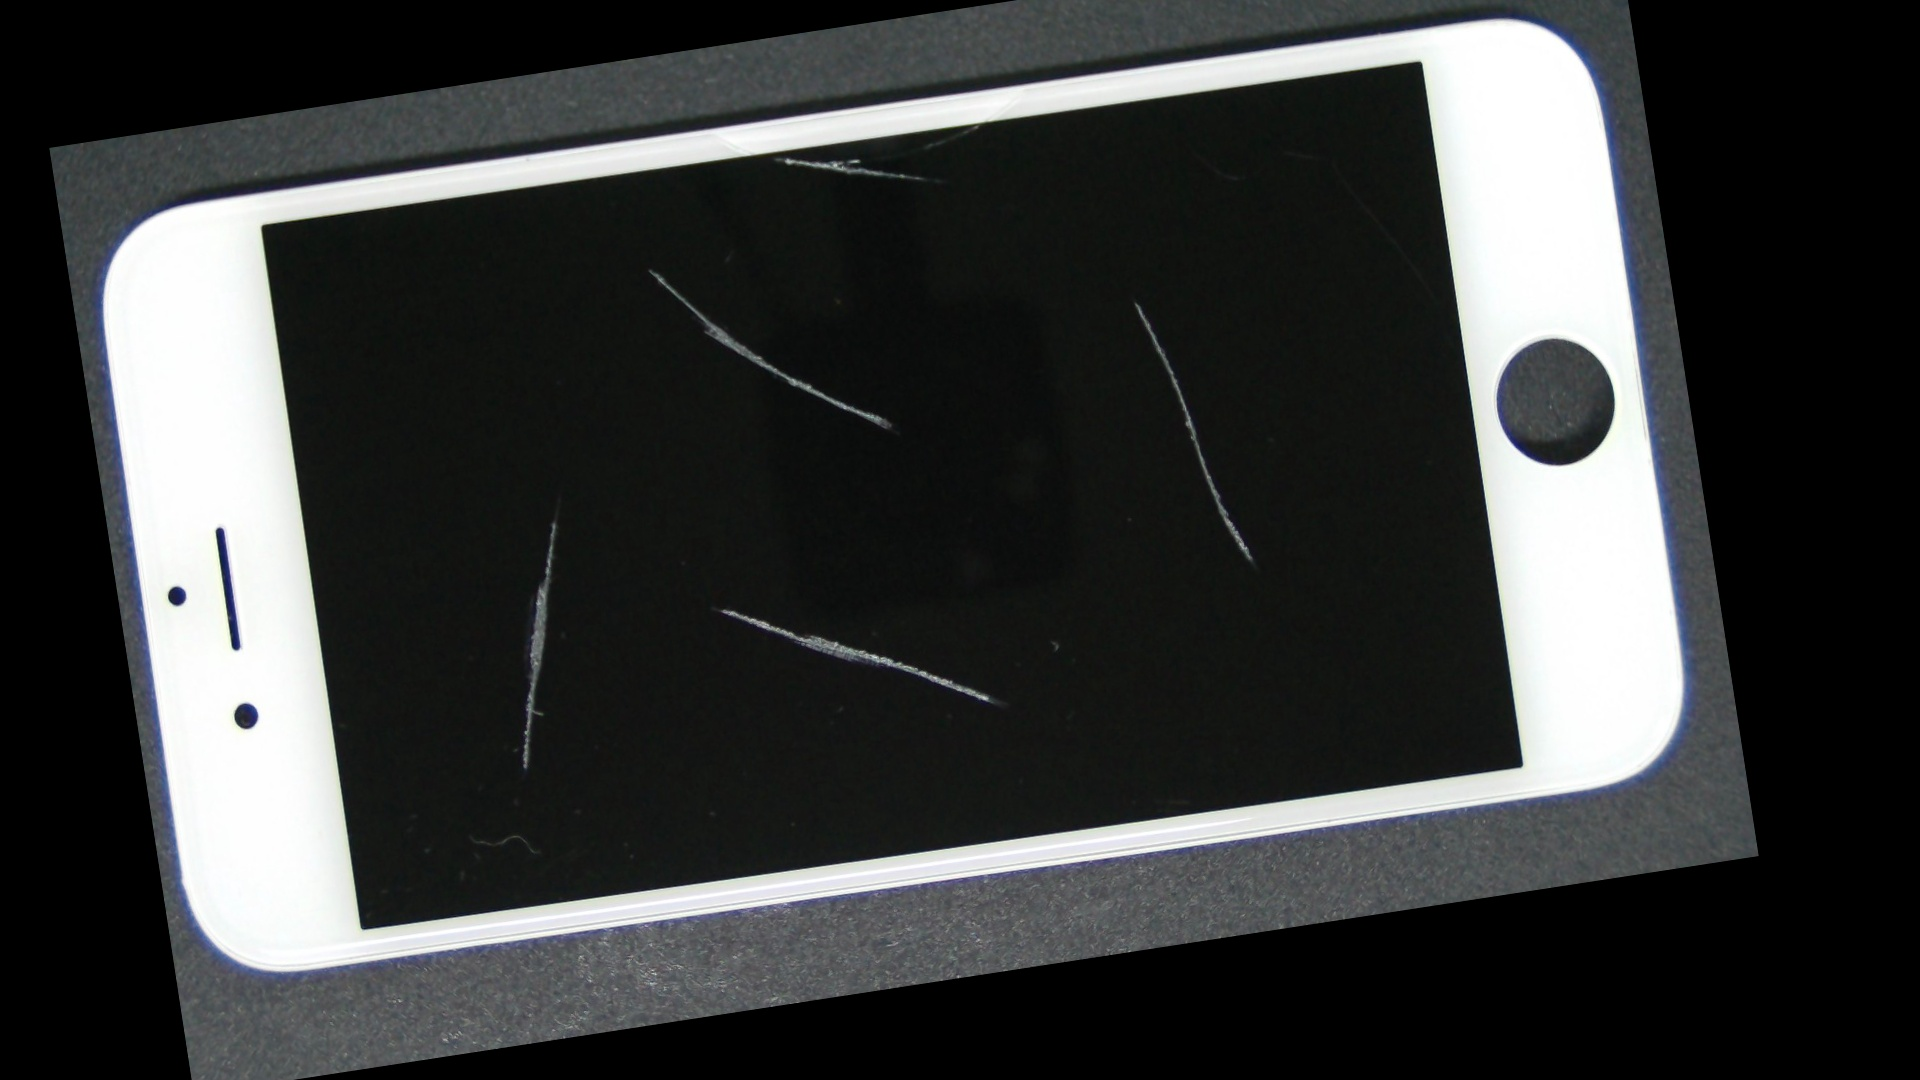oil: (592, 65, 1677, 537), (381, 289, 1043, 924), (299, 268, 802, 774), (348, 121, 947, 415), (410, 45, 1134, 272)
